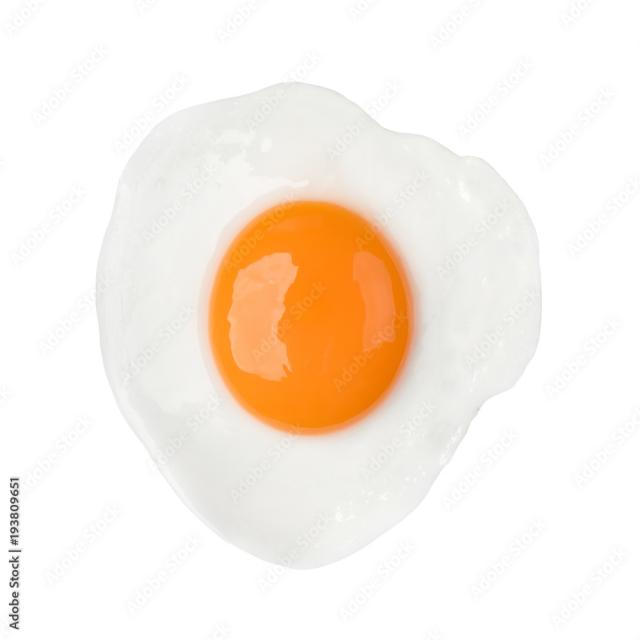Egg: (98, 83, 541, 568)
